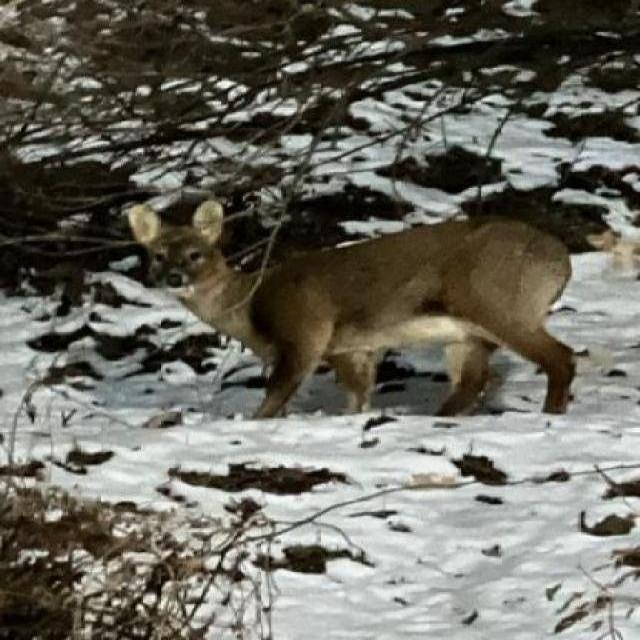deer: (128, 197, 582, 423)
